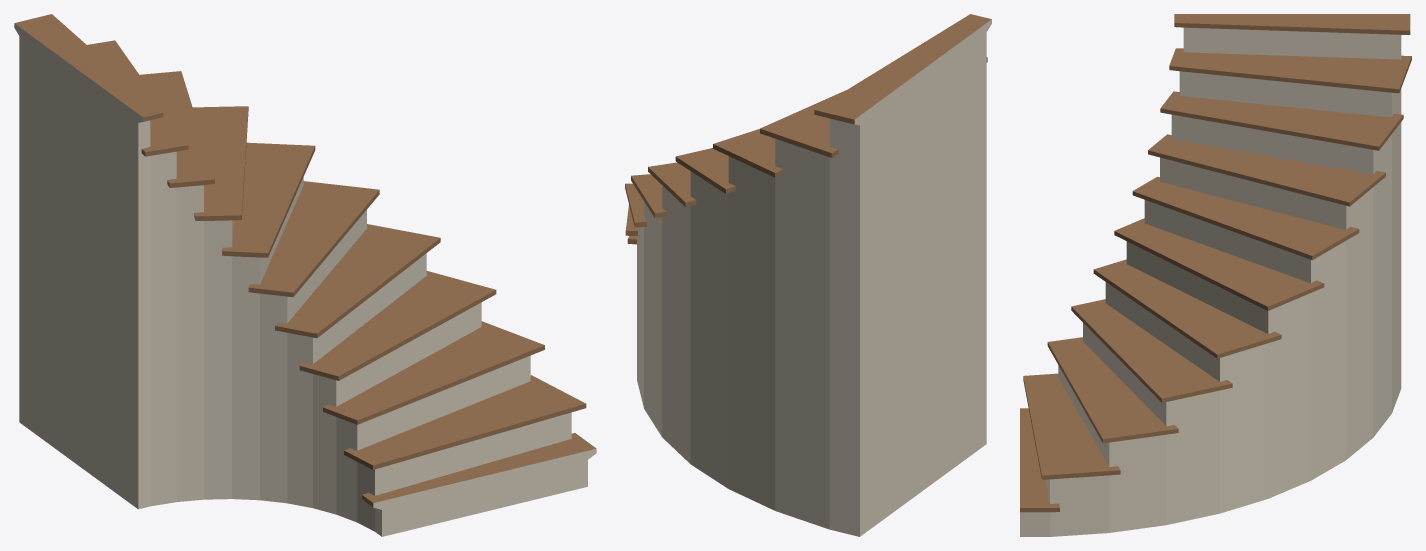
File: Stairs_Curved_Large_Steps.obj
3 views of the same model, side by side, from view 1: azimuth 30°, elevation 25°; view 2: azimuth 150°, elevation 25°; view 3: azimuth 270°, elevation 25° (orthographic). The views are drawn at different scales.
Visible parts, largest first — view 1: object1; view 2: object1; view 3: object1.
Part boxes in pixels (box(x1,y1,x2,y2)): object1: box(14, 14, 596, 536); object1: box(625, 14, 991, 536); object1: box(1020, 14, 1411, 536).
Size of the model in its own units: 2.16 by 2.2 by 2.16.
